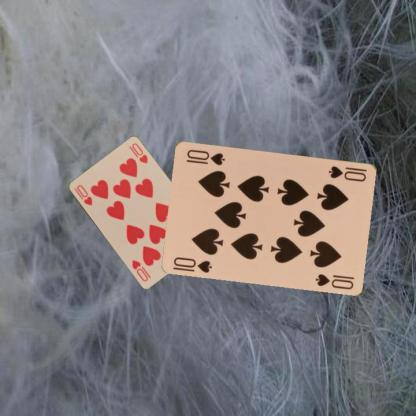10h: (72, 182, 93, 207)
10s: (171, 254, 214, 274), (326, 163, 367, 183)
